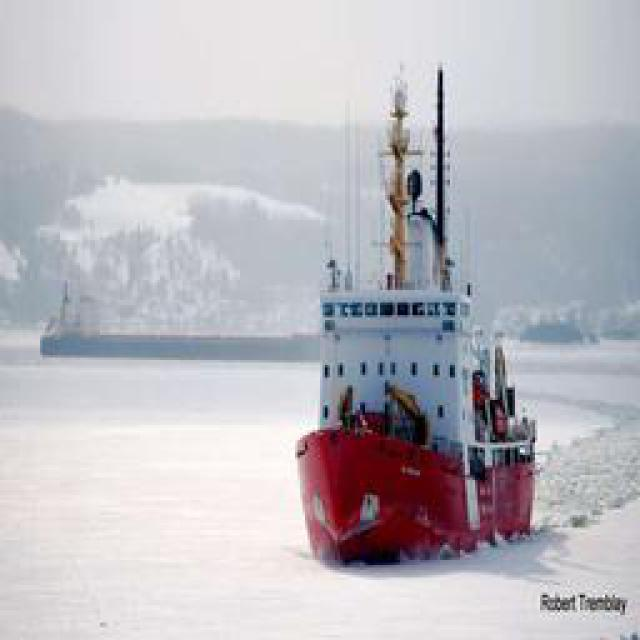Ship: (301, 53, 541, 578)
